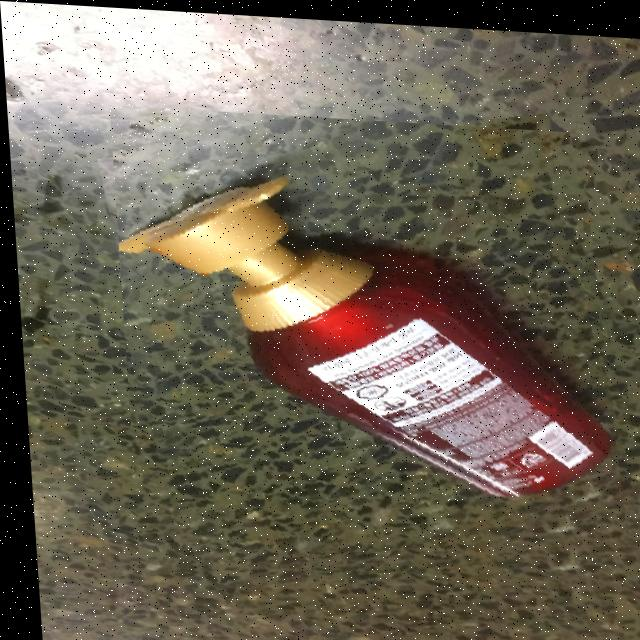plasticbottle: (108, 102, 625, 593)
plasticbottlecap: (126, 149, 370, 280)
